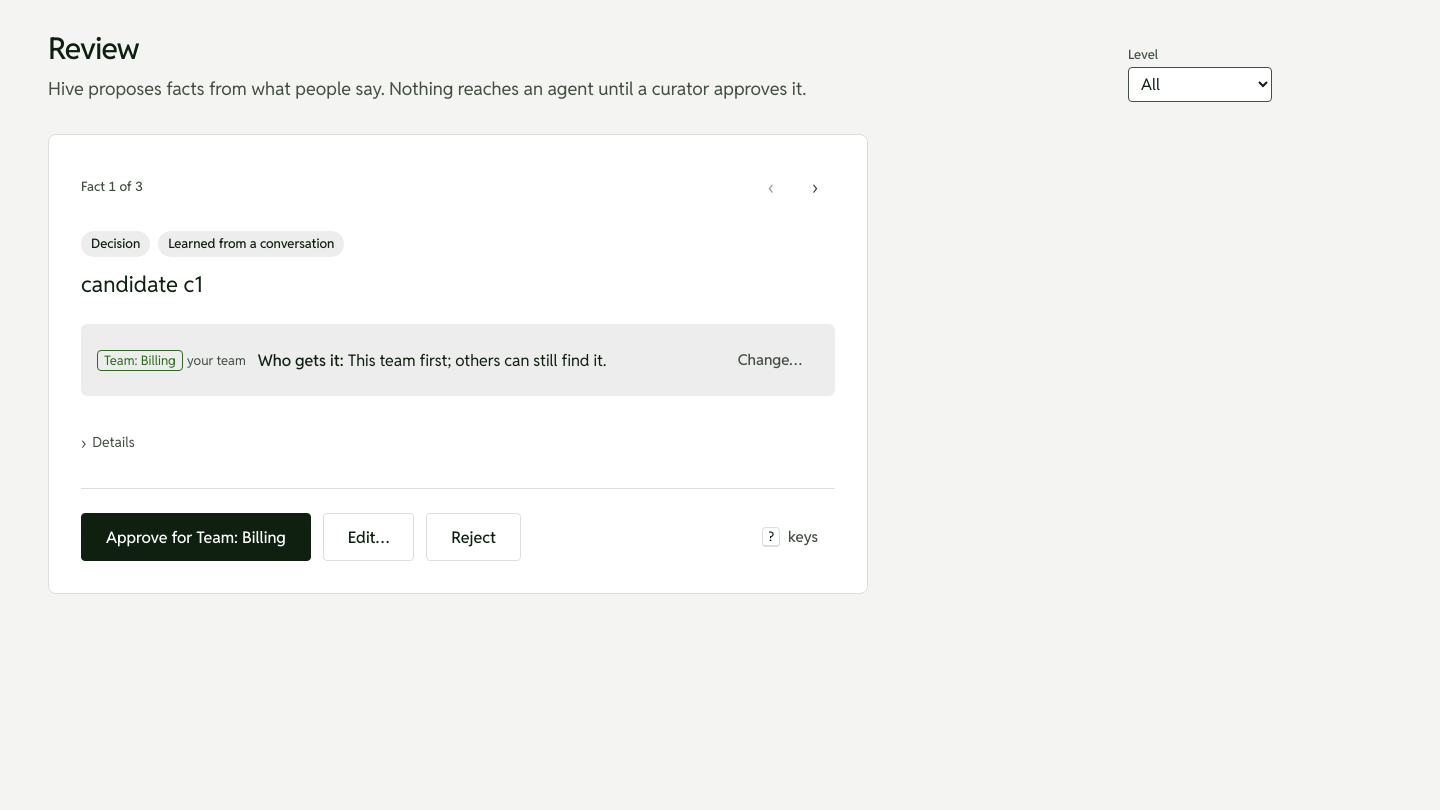
it: the card › says who gets it; Change… opens Who should get this? in place
Expected: the text "candidate c1" is shown, [81,270,203,298]
Expected: the text "your team" is shown, [187,351,246,370]
Click the button "Change…".
click(770, 360)  # box [721,340,819,380]
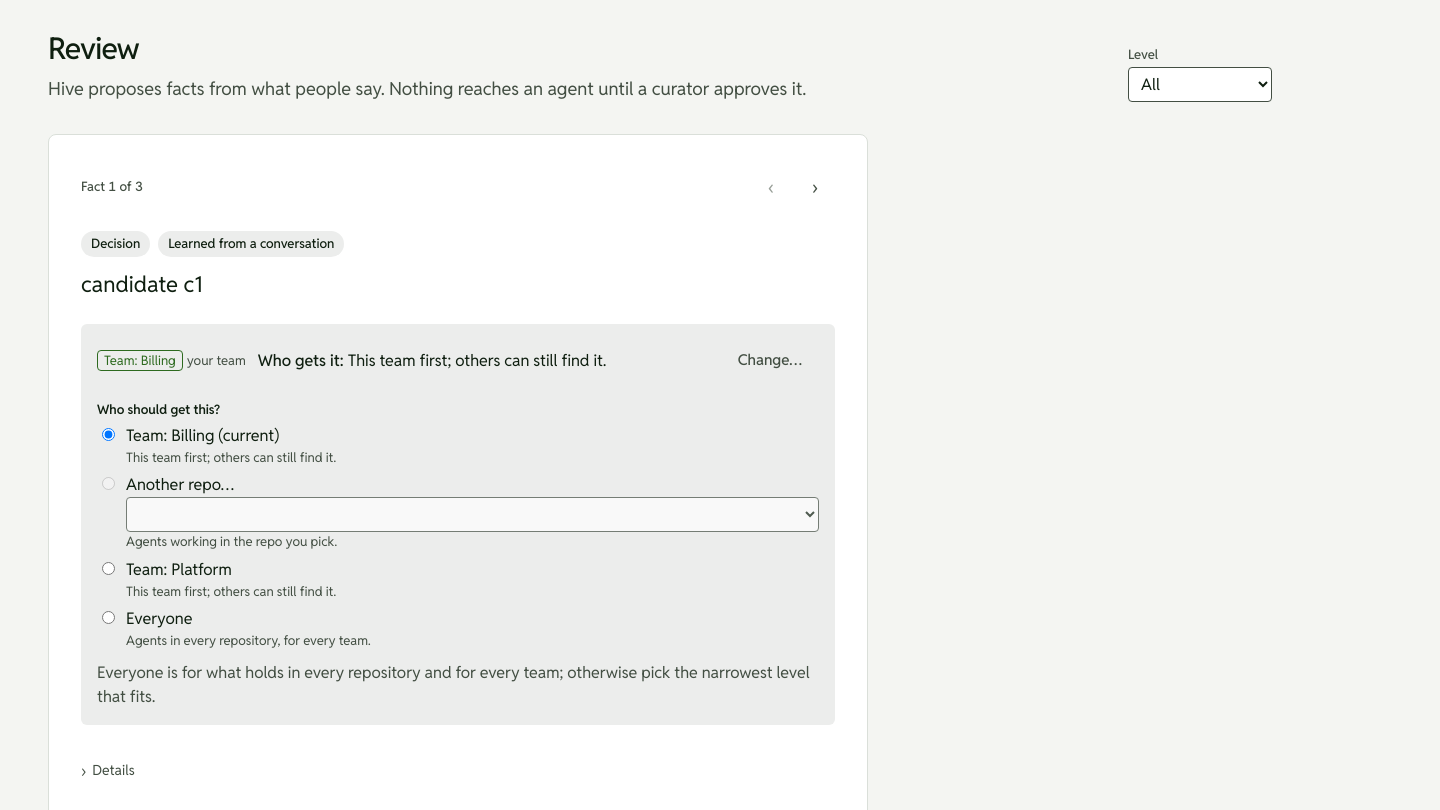
Click the radio button labelled "Everyone".
click(108, 618)  # box [102,611,115,624]
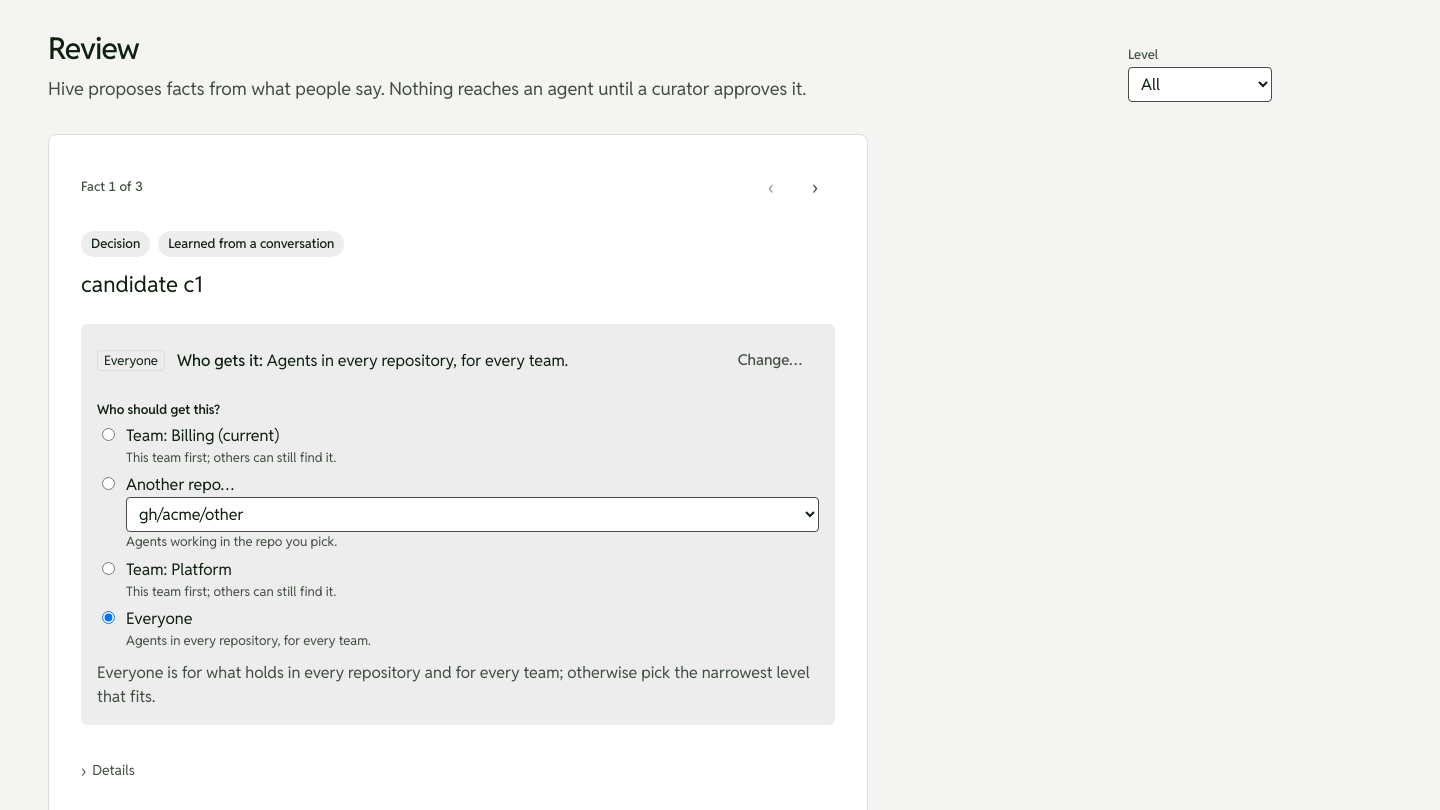
Result: the element with class "level" reads "Everyone" at [104,352,158,369]
Result: the element showing "Who gets it: Agents in every repository, for every team." is shown at [177,350,568,371]
